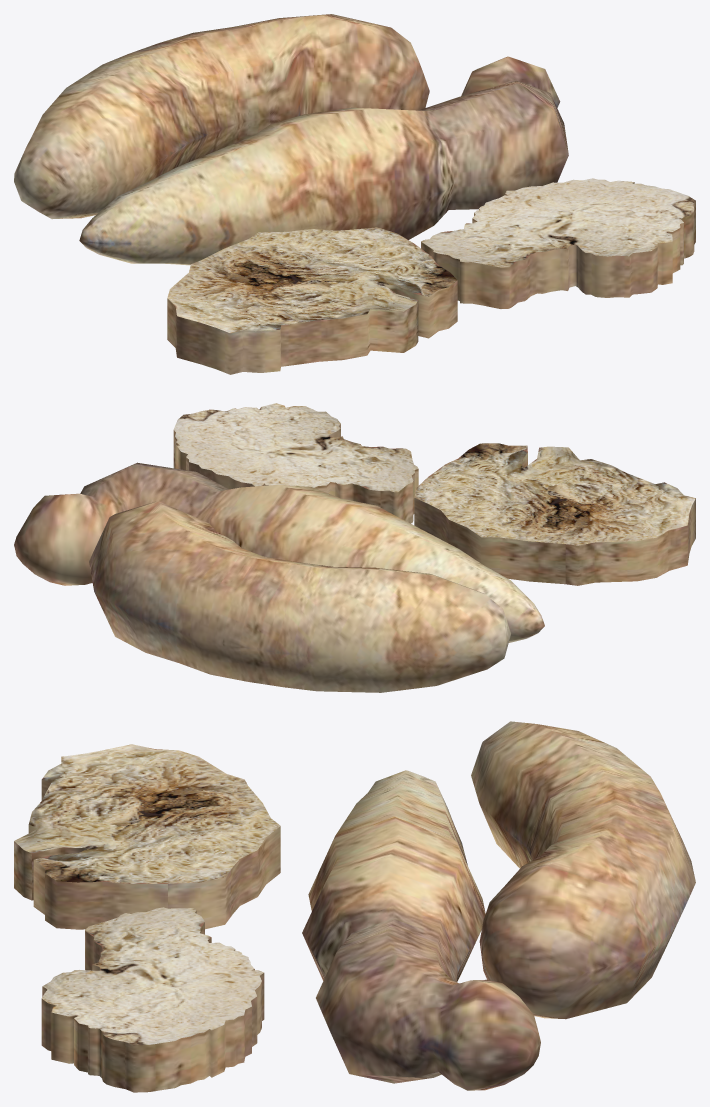
Rendered from nanshashen.FBX.
3 renders of one model, top to bottom at view 1: azimuth 30°, elevation 25°; view 2: azimuth 150°, elevation 25°; view 3: azimuth 270°, elevation 25°, orthographic. The views are drawn at different scales.
Parts seen in each view (by area): view 1: Cylinder001, Cylinder002, Line001, Line002; view 2: Cylinder002, Line001, Cylinder001, Line002; view 3: Cylinder002, Cylinder001, Line001, Line002.
Boxes of the visible parts, box(x1,y1,x2,y2) form: Cylinder001: box(79, 56, 568, 265); Cylinder002: box(14, 14, 429, 219); Line001: box(167, 227, 457, 374); Line002: box(421, 178, 695, 308); Cylinder002: box(89, 501, 510, 692); Line001: box(414, 443, 695, 585); Cylinder001: box(14, 462, 544, 642); Line002: box(173, 403, 418, 523); Cylinder002: box(471, 721, 695, 1019); Cylinder001: box(302, 770, 540, 1090); Line001: box(14, 744, 280, 929); Line002: box(41, 907, 264, 1092).
Size of the model in its own units: 46.59 by 13.63 by 45.93.
Materials: 1 (1 with a texture image).
